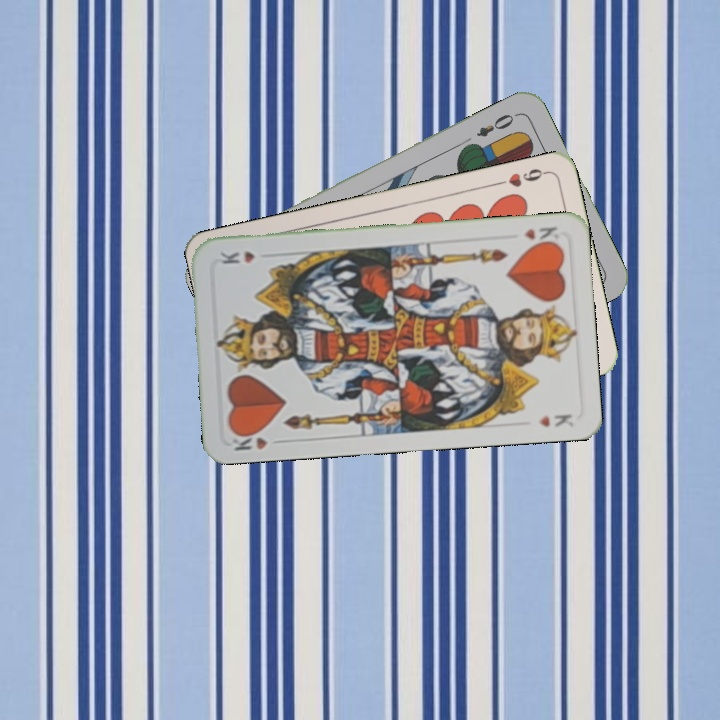EO: (472, 108, 521, 140)
H9: (492, 164, 550, 190)
HK: (227, 426, 287, 454), (520, 223, 561, 248)
